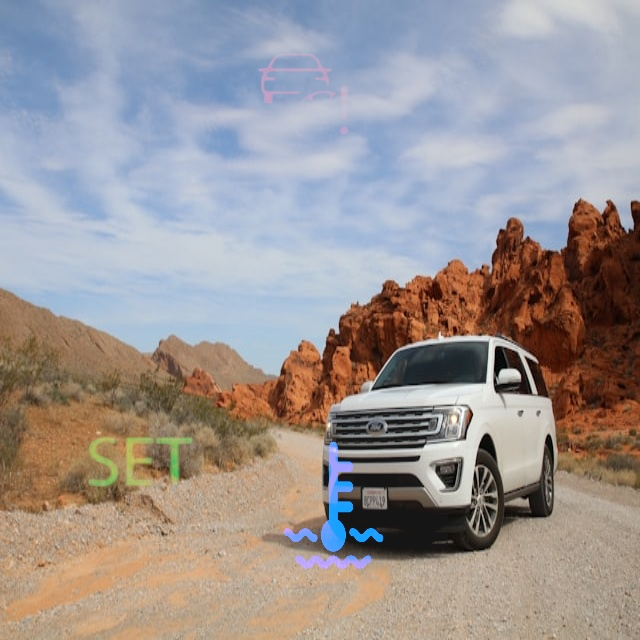symbol: (229, 399, 448, 618), (44, 367, 237, 560), (241, 34, 365, 158)
